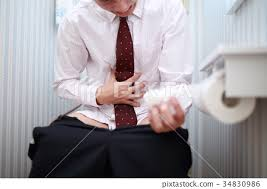F_shirt: (52, 1, 196, 125)
F_tie: (114, 17, 140, 133)
